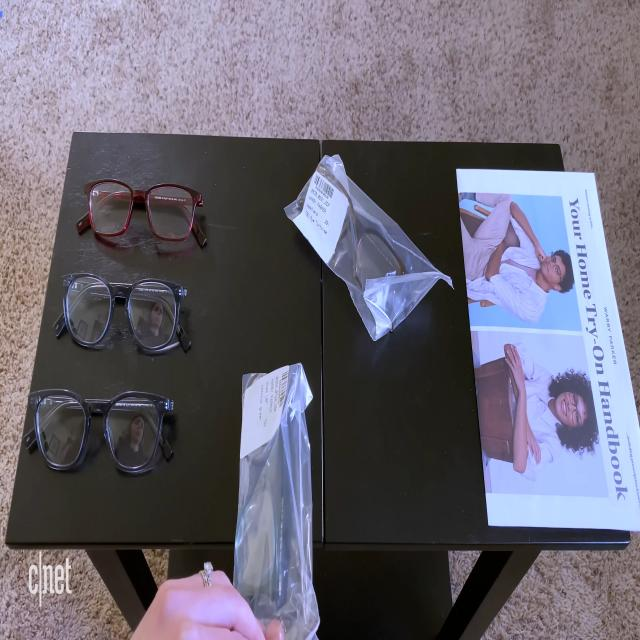glasses: (285, 148, 423, 342), (28, 378, 177, 487), (234, 360, 294, 612), (53, 262, 193, 358), (82, 171, 201, 257), (567, 382, 586, 436)
